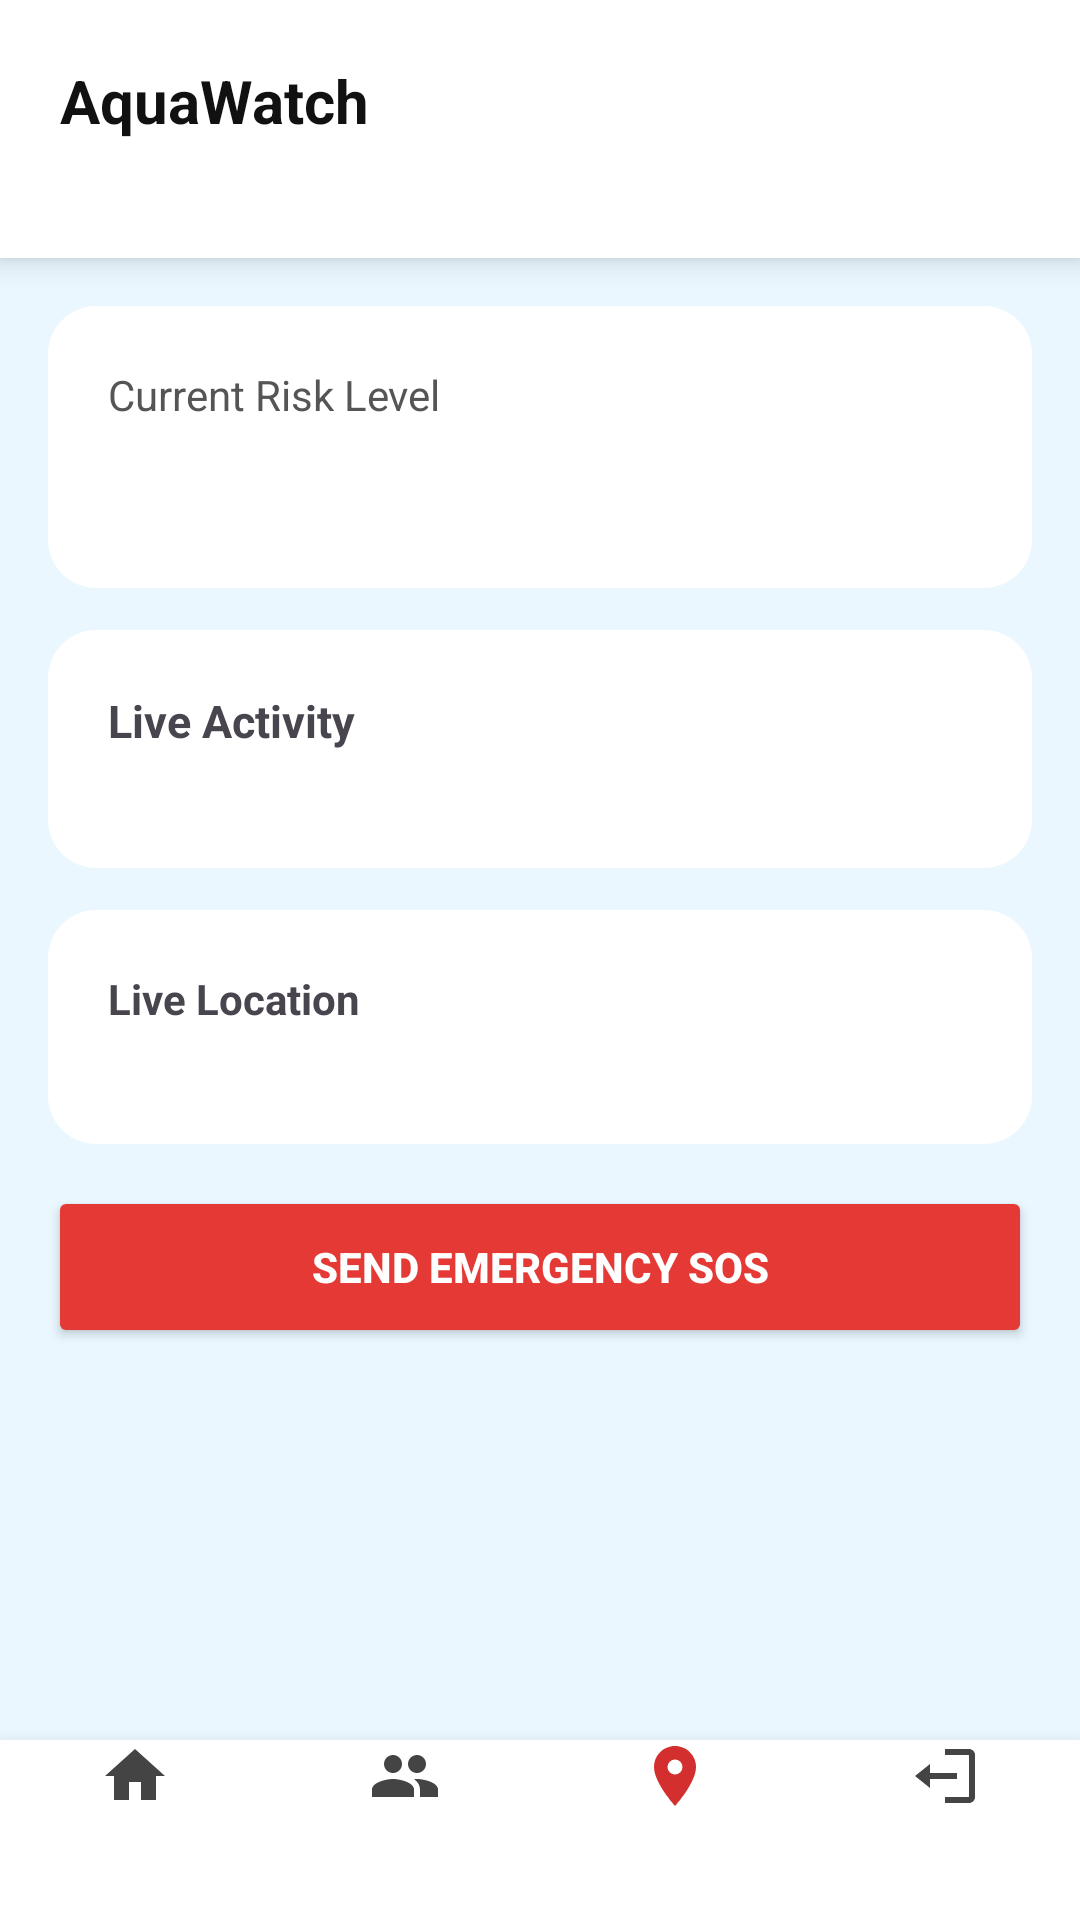

Icons on this 1080px x 1920px Android screen, each with the point to tap as (x=x, y=y):
home: (x=135, y=1774)
location: (x=675, y=1776)
people: (x=405, y=1776)
